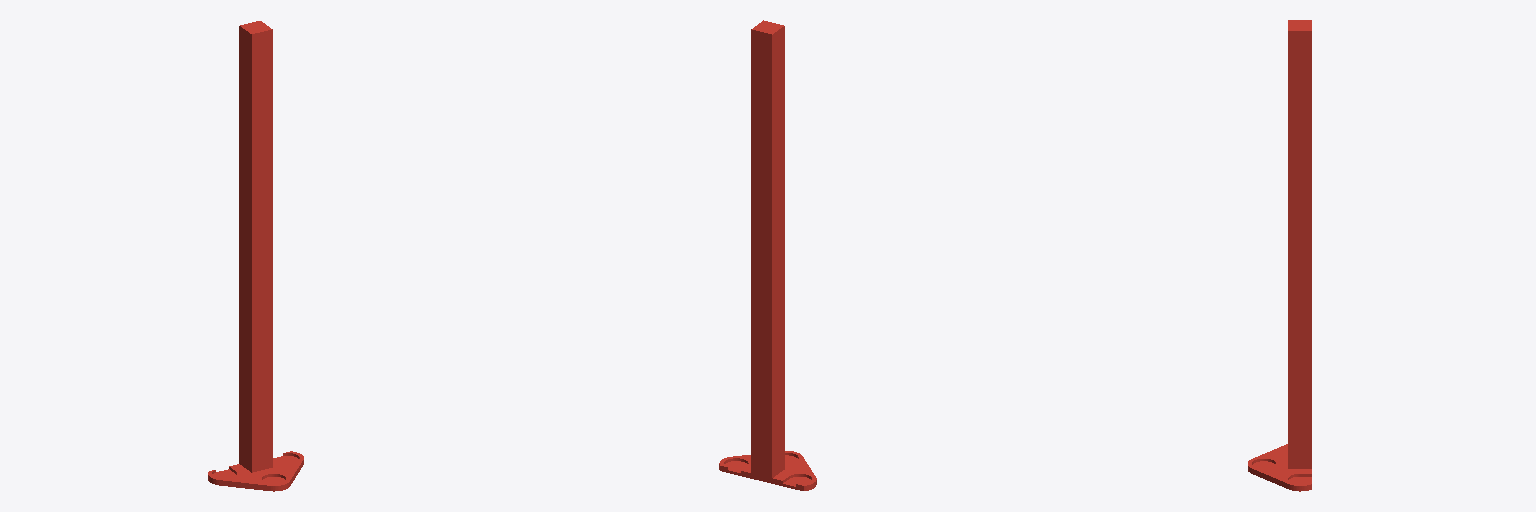
URDF robot description (puzzle_A):
<?xml version="1.0"?>
<!-- puzzle_A: standalone static model from A.step.
     Mesh in millimetres (scale 0.001). Link origin = STEP-file origin, unchanged.
     Mass/inertia assume density 1.24 g/cm^3 -> 26.9 g (material not given in the STEP). -->
<robot name="puzzle_A">
  <material name="puzzle_A_color"><color rgba="0.85 0.30 0.25 1.0"/></material>
  <link name="puzzle_A_link">
    <visual>
      <geometry><mesh filename="meshes/puzzle_A.stl" scale="0.001 0.001 0.001"/></geometry>
      <material name="puzzle_A_color"/>
    </visual>
    <collision>
      <geometry><mesh filename="meshes/puzzle_A.stl" scale="0.001 0.001 0.001"/></geometry>
    </collision>
    <inertial>
      <origin xyz="-0.000000 -0.000424 0.092111" rpy="0 0 0"/>
      <mass value="0.02689"/>
      <inertia ixx="1.0285e-04" ixy="3.6775e-20" ixz="2.9077e-20" iyy="1.0292e-04" iyz="-1.0653e-06" izz="7.7365e-07"/>
    </inertial>
  </link>
</robot>

--- Facts derived from the render (not from the file) ---
The picture shows the robot from 3 angles, left to right: view 1: azimuth 30°, elevation 25°; view 2: azimuth 150°, elevation 25°; view 3: azimuth 270°, elevation 25°; orthographic projection.
Model puzzle_A with 1 links and 0 joints (none), rooted at puzzle_A_link, posed all joints at 0.
Visible links, largest first — view 1: puzzle_A_link; view 2: puzzle_A_link; view 3: puzzle_A_link.
Link boxes in pixels (x1,y1,x2,y2): puzzle_A_link: (208,21,303,491); puzzle_A_link: (719,20,816,490); puzzle_A_link: (1248,20,1311,491).
Bounding box of the posed robot: 0.0437 × 0.0269 × 0.2025 m (x, y, z).
1 mesh visuals loaded from 1 distinct referenced files (1 binary STL).
